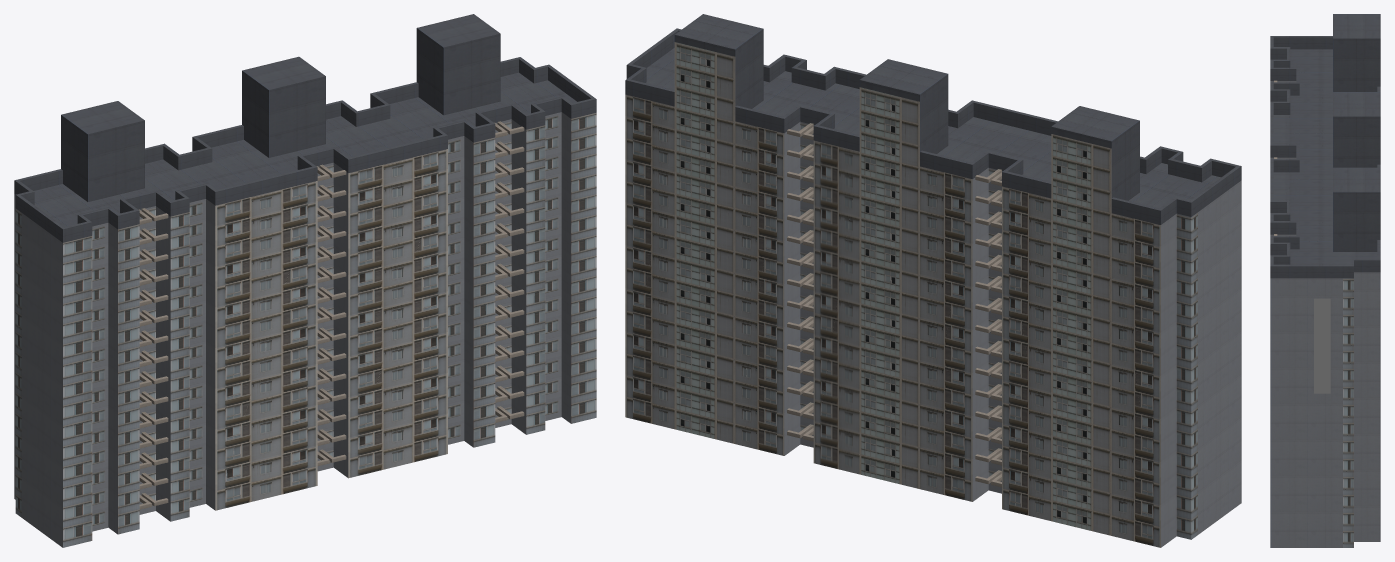
File: side building24.FBX
3 views of the same model, side by side, from view 1: azimuth 30°, elevation 25°; view 2: azimuth 150°, elevation 25°; view 3: azimuth 270°, elevation 25° (orthographic). The views are drawn at different scales.
Parts seen in each view (by area): view 1: Rectangle04; view 2: Rectangle04; view 3: Rectangle04.
Part boxes in pixels (x1,y1,x2,y2): Rectangle04: (14,14,596,547); Rectangle04: (625,14,1241,547); Rectangle04: (1270,14,1380,547).
Bounding box in the file's own units: 82.38 × 16.68 × 55.
